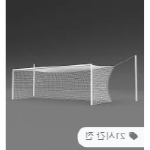goals: (10, 62, 114, 107)
